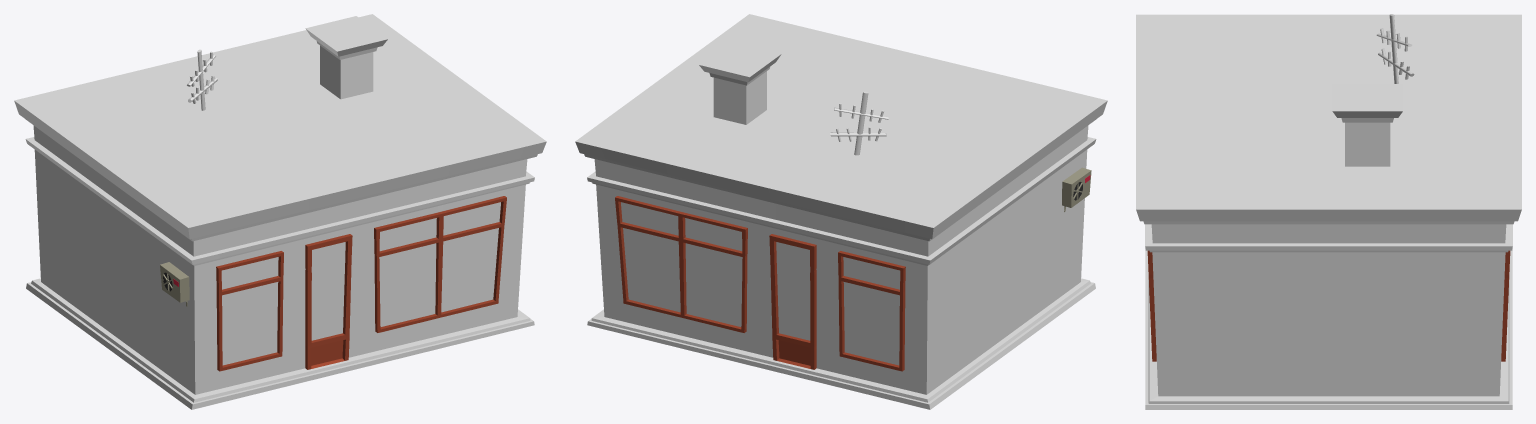
The model's file is Level01House.fbx.
The picture shows the model from 3 angles, left to right: view 1: azimuth 30°, elevation 25°; view 2: azimuth 150°, elevation 25°; view 3: azimuth 270°, elevation 25°; orthographic projection. The views are drawn at different scales.
Parts seen in each view (by area): view 1: café, Cube.003, clim.006, Cylinder.004; view 2: café, Cube.003, Cylinder.004, clim.006; view 3: café, Cube.003, Cylinder.004.
Boxes of the visible parts, x1,y1,x2,y2 form: café: [14, 14, 546, 409]; Cube.003: [305, 16, 387, 99]; clim.006: [160, 262, 189, 306]; Cylinder.004: [187, 49, 217, 110]; café: [575, 14, 1107, 409]; Cube.003: [699, 41, 781, 124]; Cylinder.004: [830, 91, 888, 155]; clim.006: [1062, 167, 1091, 211]; café: [1136, 14, 1521, 409]; Cube.003: [1332, 84, 1402, 166]; Cylinder.004: [1376, 14, 1414, 83].
Bounding box in the file's own units: 278 × 184 × 234.
